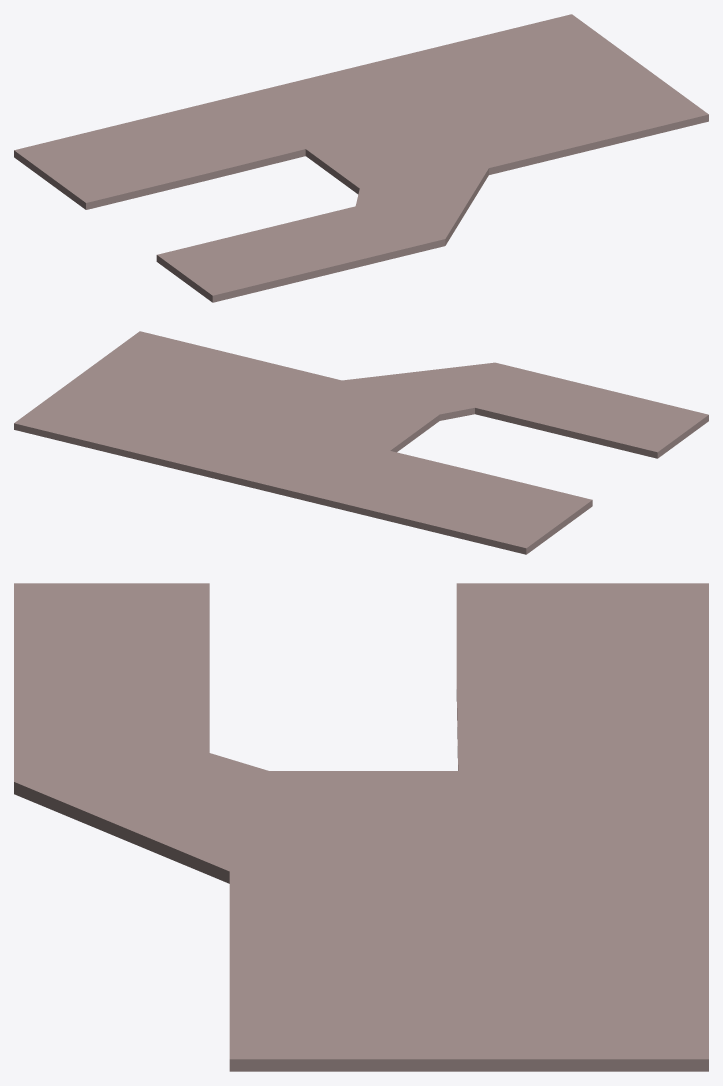
Rendered from first_floor.glb.
3 renders of one model, top to bottom at view 1: azimuth 30°, elevation 25°; view 2: azimuth 150°, elevation 25°; view 3: azimuth 270°, elevation 25°, orthographic. The views are drawn at different scales.
Visible parts, largest first — view 1: SegundoAndar.002; view 2: SegundoAndar.002; view 3: SegundoAndar.002.
Boxes of the visible parts, left/top/right/bottom form: SegundoAndar.002: left=14, top=14, right=708, bottom=302; SegundoAndar.002: left=14, top=331, right=708, bottom=554; SegundoAndar.002: left=14, top=583, right=708, bottom=1071.
Size of the model in its own units: 26.11 by 0.3166 by 16.11.
